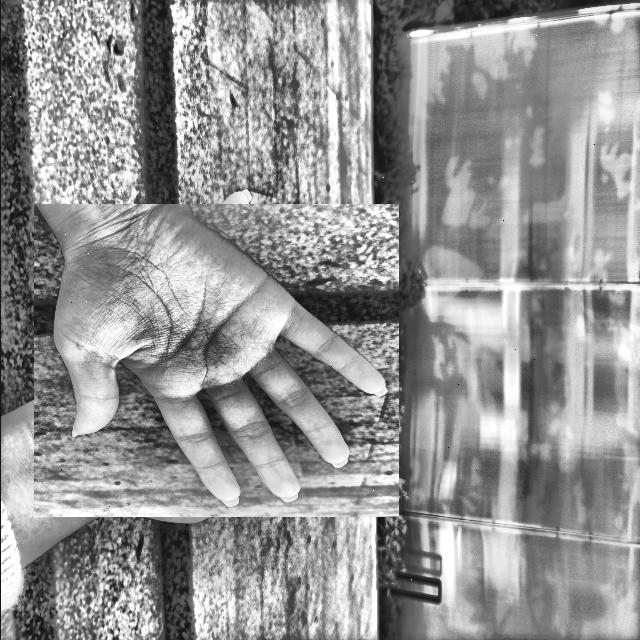not-gloved: (46, 190, 386, 530)
